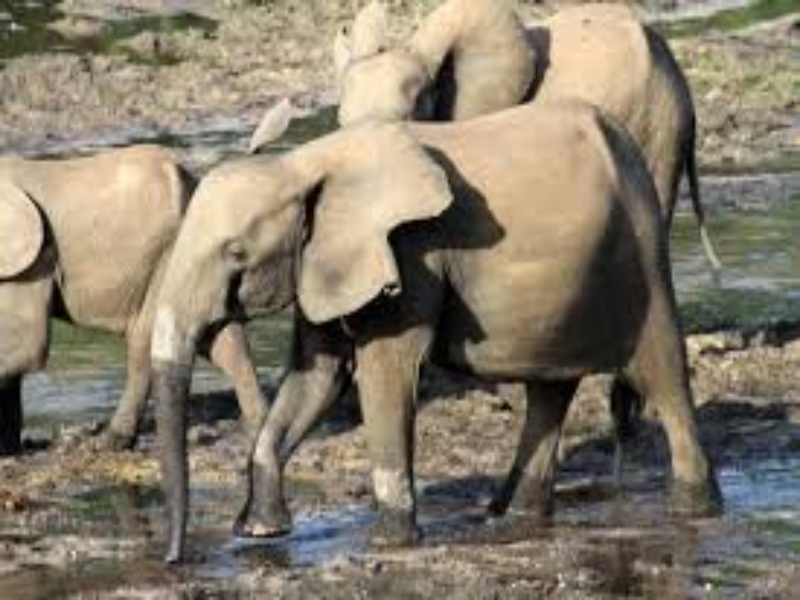elephant: (136, 126, 729, 561)
